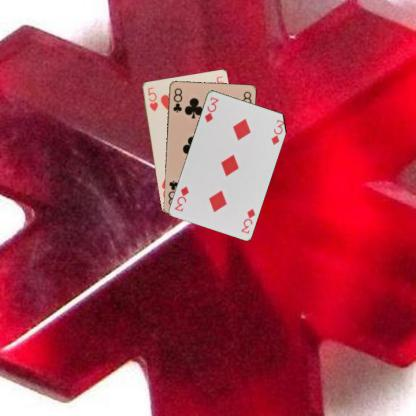3d: (238, 206, 257, 235), (202, 94, 220, 124)
5h: (145, 84, 159, 112)
8c: (171, 85, 183, 114)
